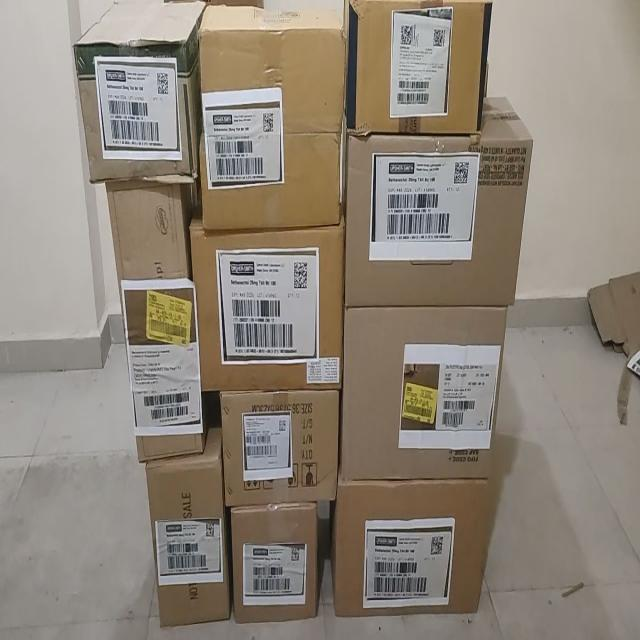BoxFace: (343, 94, 533, 308), (197, 3, 347, 230), (104, 171, 206, 461), (340, 305, 508, 481), (189, 209, 345, 391), (330, 468, 495, 618), (71, 0, 205, 184), (345, 0, 493, 136), (144, 427, 230, 628), (219, 388, 339, 506), (230, 501, 318, 623)
